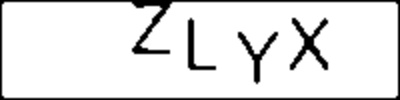L: (183, 12, 223, 74)
X: (287, 14, 333, 71)
Y: (234, 29, 280, 89)
Z: (127, 1, 174, 57)
